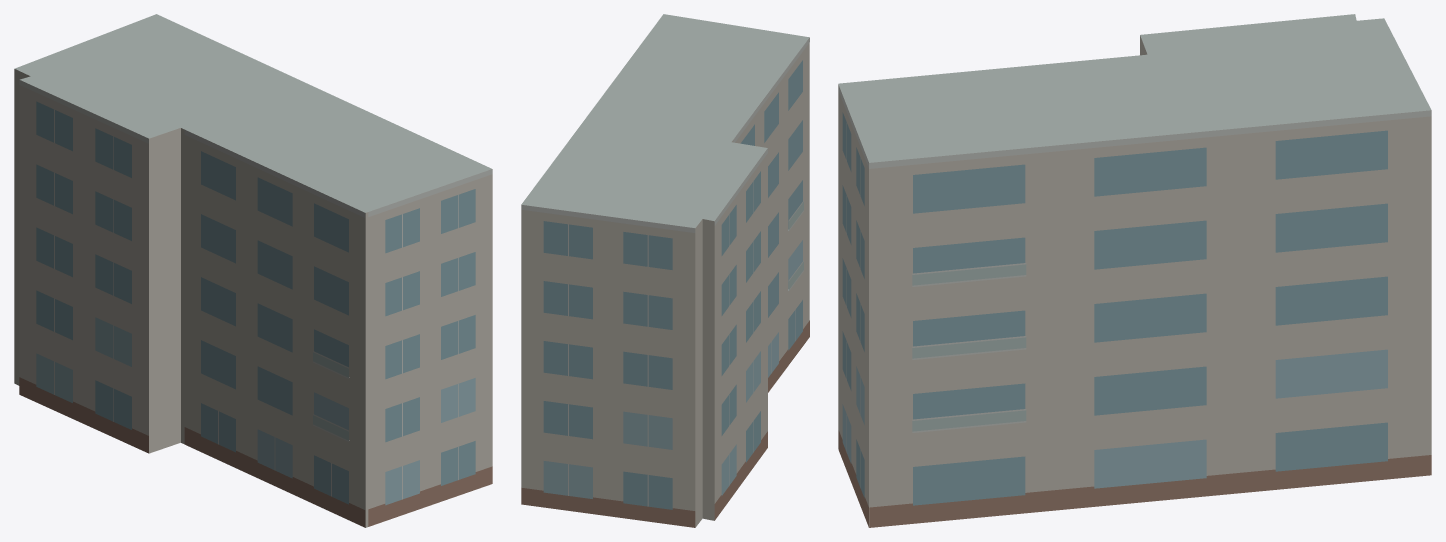
Rendered from survey-upis-33016273.glb.
The picture shows the model from 3 angles, left to right: view 1: azimuth 30°, elevation 25°; view 2: azimuth 150°, elevation 25°; view 3: azimuth 270°, elevation 25°; orthographic projection. The views are drawn at different scales.
Parts seen in each view (by area): view 1: survey-upis-33016273.tmp; view 2: survey-upis-33016273.tmp; view 3: survey-upis-33016273.tmp.
Part boxes in pixels (bbox=[...]): survey-upis-33016273.tmp: bbox=[14, 14, 492, 527]; survey-upis-33016273.tmp: bbox=[521, 14, 809, 527]; survey-upis-33016273.tmp: bbox=[838, 14, 1431, 527].
Size of the model in its own units: 12.87 by 14.7 by 21.67.
